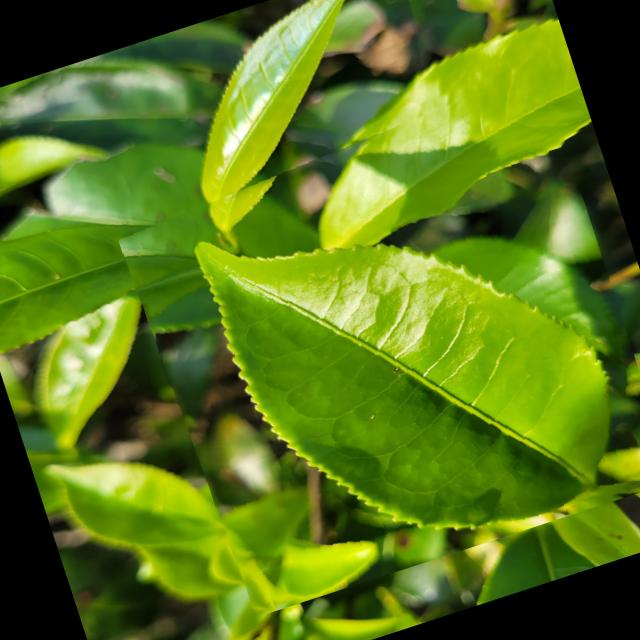Category B(2-4 days): (108, 67, 640, 621)
